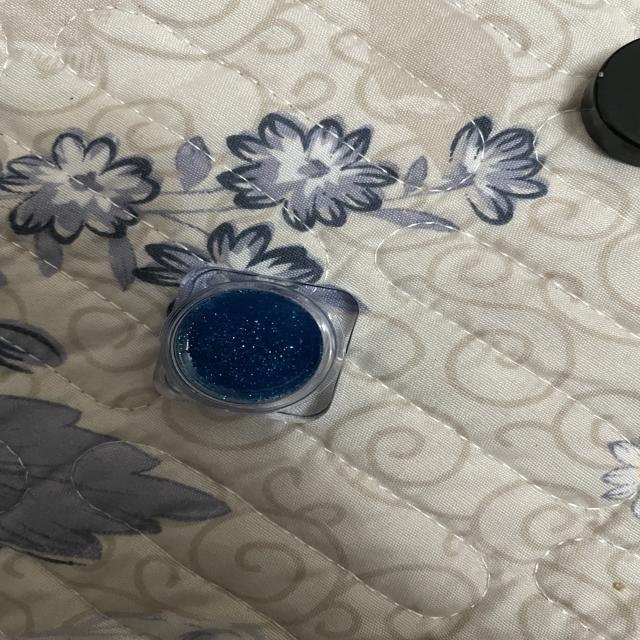eye shade: (129, 254, 386, 436)
